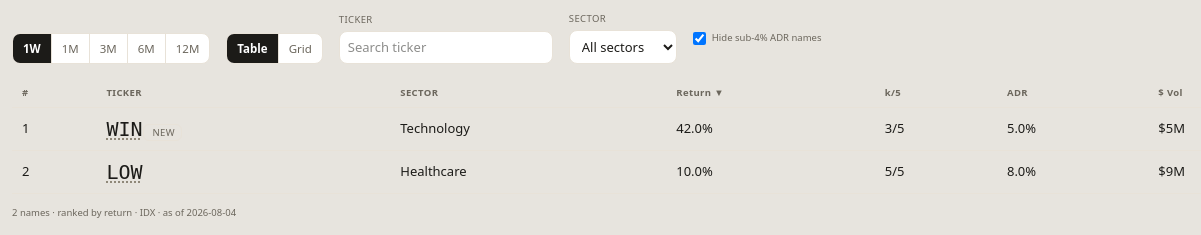
Test: the Leaders screen › switches the row set when the lookback control changes (spec §5.3)
The image size is (1201, 235).
Expected: the button "WIN" is shown, [106,114,142,144]
Expected: the button "LOW" is shown, [106,156,142,186]
Click the radio button labelled "1M". click: (70, 49)
box: [51,34,89,63]
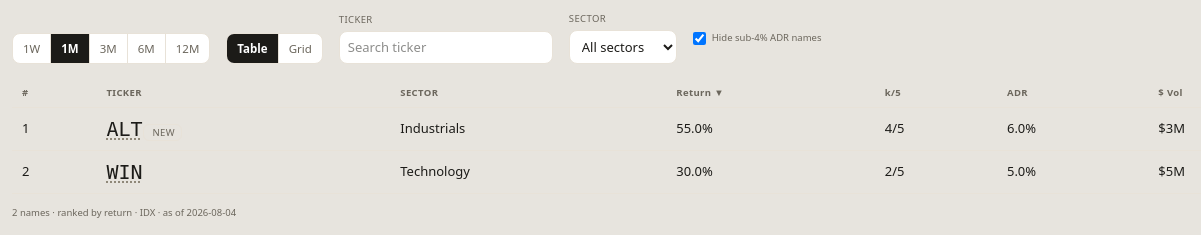
Expected: the button "ALT" is shown, [106,114,142,144]
Expected: the button "LOW" is gone
